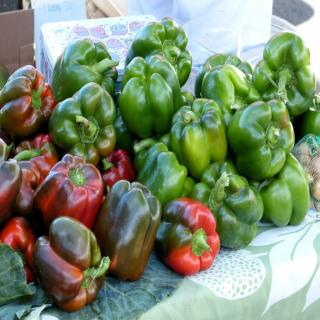Bell pepper: (0, 15, 320, 313), (0, 17, 320, 311), (155, 194, 223, 276)
